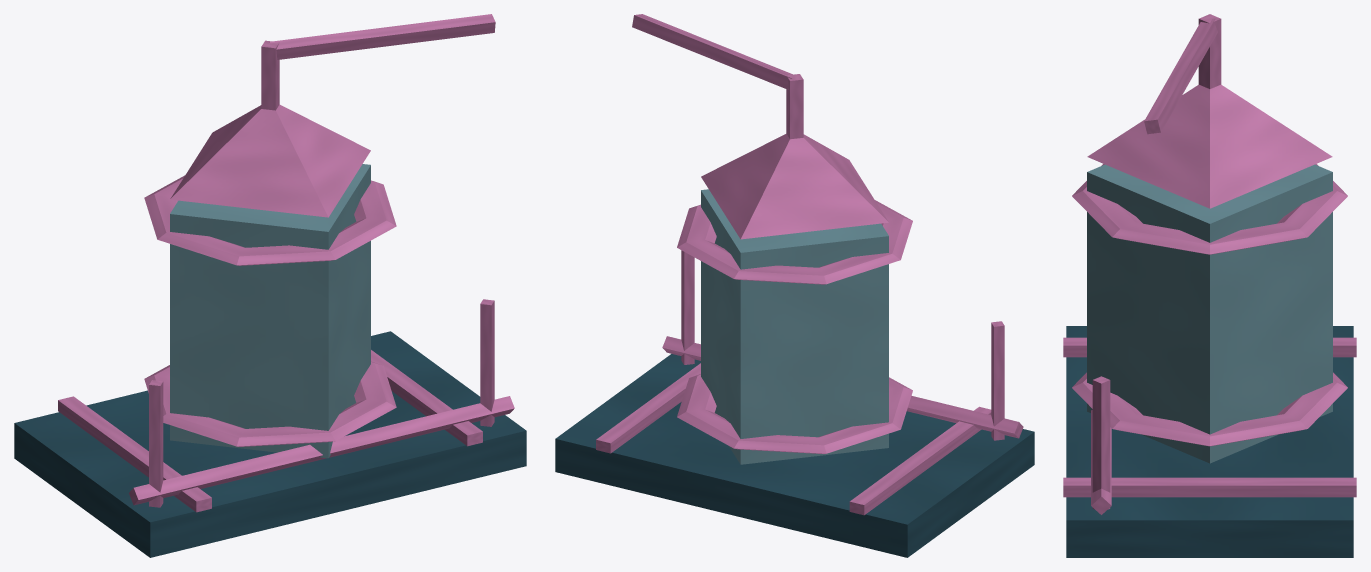
Rendered from atlas100-s061-a02.lod2.glb.
3 views of the same model, side by side, from view 1: azimuth 30°, elevation 25°; view 2: azimuth 150°, elevation 25°; view 3: azimuth 270°, elevation 25° (orthographic). The views are drawn at different scales.
Visible parts, largest first — view 1: atlas100-s061-a02:part-003, atlas100-s061-a02:part-000, atlas100-s061-a02:part-007, atlas100-s061-a02:part-005, atlas100-s061-a02:part-014, atlas100-s061-a02:part-004, atlas100-s061-a02:part-009, atlas100-s061-a02:part-001, atlas100-s061-a02:part-002, atlas100-s061-a02:part-012, atlas100-s061-a02:part-010, atlas100-s061-a02:part-008; view 2: atlas100-s061-a02:part-000, atlas100-s061-a02:part-003, atlas100-s061-a02:part-007, atlas100-s061-a02:part-005, atlas100-s061-a02:part-004, atlas100-s061-a02:part-001, atlas100-s061-a02:part-009, atlas100-s061-a02:part-014, atlas100-s061-a02:part-002, atlas100-s061-a02:part-010, atlas100-s061-a02:part-012, atlas100-s061-a02:part-008; view 3: atlas100-s061-a02:part-003, atlas100-s061-a02:part-000, atlas100-s061-a02:part-007, atlas100-s061-a02:part-005, atlas100-s061-a02:part-002, atlas100-s061-a02:part-004, atlas100-s061-a02:part-009, atlas100-s061-a02:part-012, atlas100-s061-a02:part-008, atlas100-s061-a02:part-001, atlas100-s061-a02:part-014.
Part boxes in pixels (x1,y1,x2,y2): atlas100-s061-a02:part-003: [170, 164, 370, 458]; atlas100-s061-a02:part-000: [14, 331, 526, 557]; atlas100-s061-a02:part-007: [170, 104, 370, 217]; atlas100-s061-a02:part-005: [144, 175, 396, 265]; atlas100-s061-a02:part-014: [129, 396, 514, 505]; atlas100-s061-a02:part-004: [144, 361, 396, 446]; atlas100-s061-a02:part-009: [269, 14, 495, 59]; atlas100-s061-a02:part-001: [58, 396, 211, 512]; atlas100-s061-a02:part-002: [371, 350, 482, 446]; atlas100-s061-a02:part-012: [480, 299, 494, 426]; atlas100-s061-a02:part-010: [149, 380, 163, 507]; atlas100-s061-a02:part-008: [261, 40, 279, 110]; atlas100-s061-a02:part-000: [555, 354, 1034, 557]; atlas100-s061-a02:part-003: [701, 189, 888, 464]; atlas100-s061-a02:part-007: [701, 133, 888, 239]; atlas100-s061-a02:part-005: [677, 200, 912, 284]; atlas100-s061-a02:part-004: [677, 374, 912, 453]; atlas100-s061-a02:part-001: [849, 406, 991, 515]; atlas100-s061-a02:part-009: [632, 14, 792, 89]; atlas100-s061-a02:part-014: [662, 336, 1023, 438]; atlas100-s061-a02:part-002: [596, 363, 700, 453]; atlas100-s061-a02:part-010: [991, 321, 1004, 440]; atlas100-s061-a02:part-012: [681, 250, 694, 364]; atlas100-s061-a02:part-008: [786, 74, 803, 139]; atlas100-s061-a02:part-003: [1087, 164, 1332, 463]; atlas100-s061-a02:part-000: [1066, 326, 1353, 557]; atlas100-s061-a02:part-007: [1087, 84, 1332, 208]; atlas100-s061-a02:part-005: [1072, 164, 1347, 254]; atlas100-s061-a02:part-002: [1063, 477, 1356, 497]; atlas100-s061-a02:part-004: [1072, 372, 1347, 446]; atlas100-s061-a02:part-009: [1144, 18, 1217, 134]; atlas100-s061-a02:part-012: [1092, 376, 1110, 509]; atlas100-s061-a02:part-008: [1198, 14, 1221, 88]; atlas100-s061-a02:part-001: [1063, 337, 1356, 357]; atlas100-s061-a02:part-014: [1091, 410, 1111, 514].
Size of the model in its own units: 2.95 by 3.06 by 1.84.
Materials: 4 (4 with a texture image).
